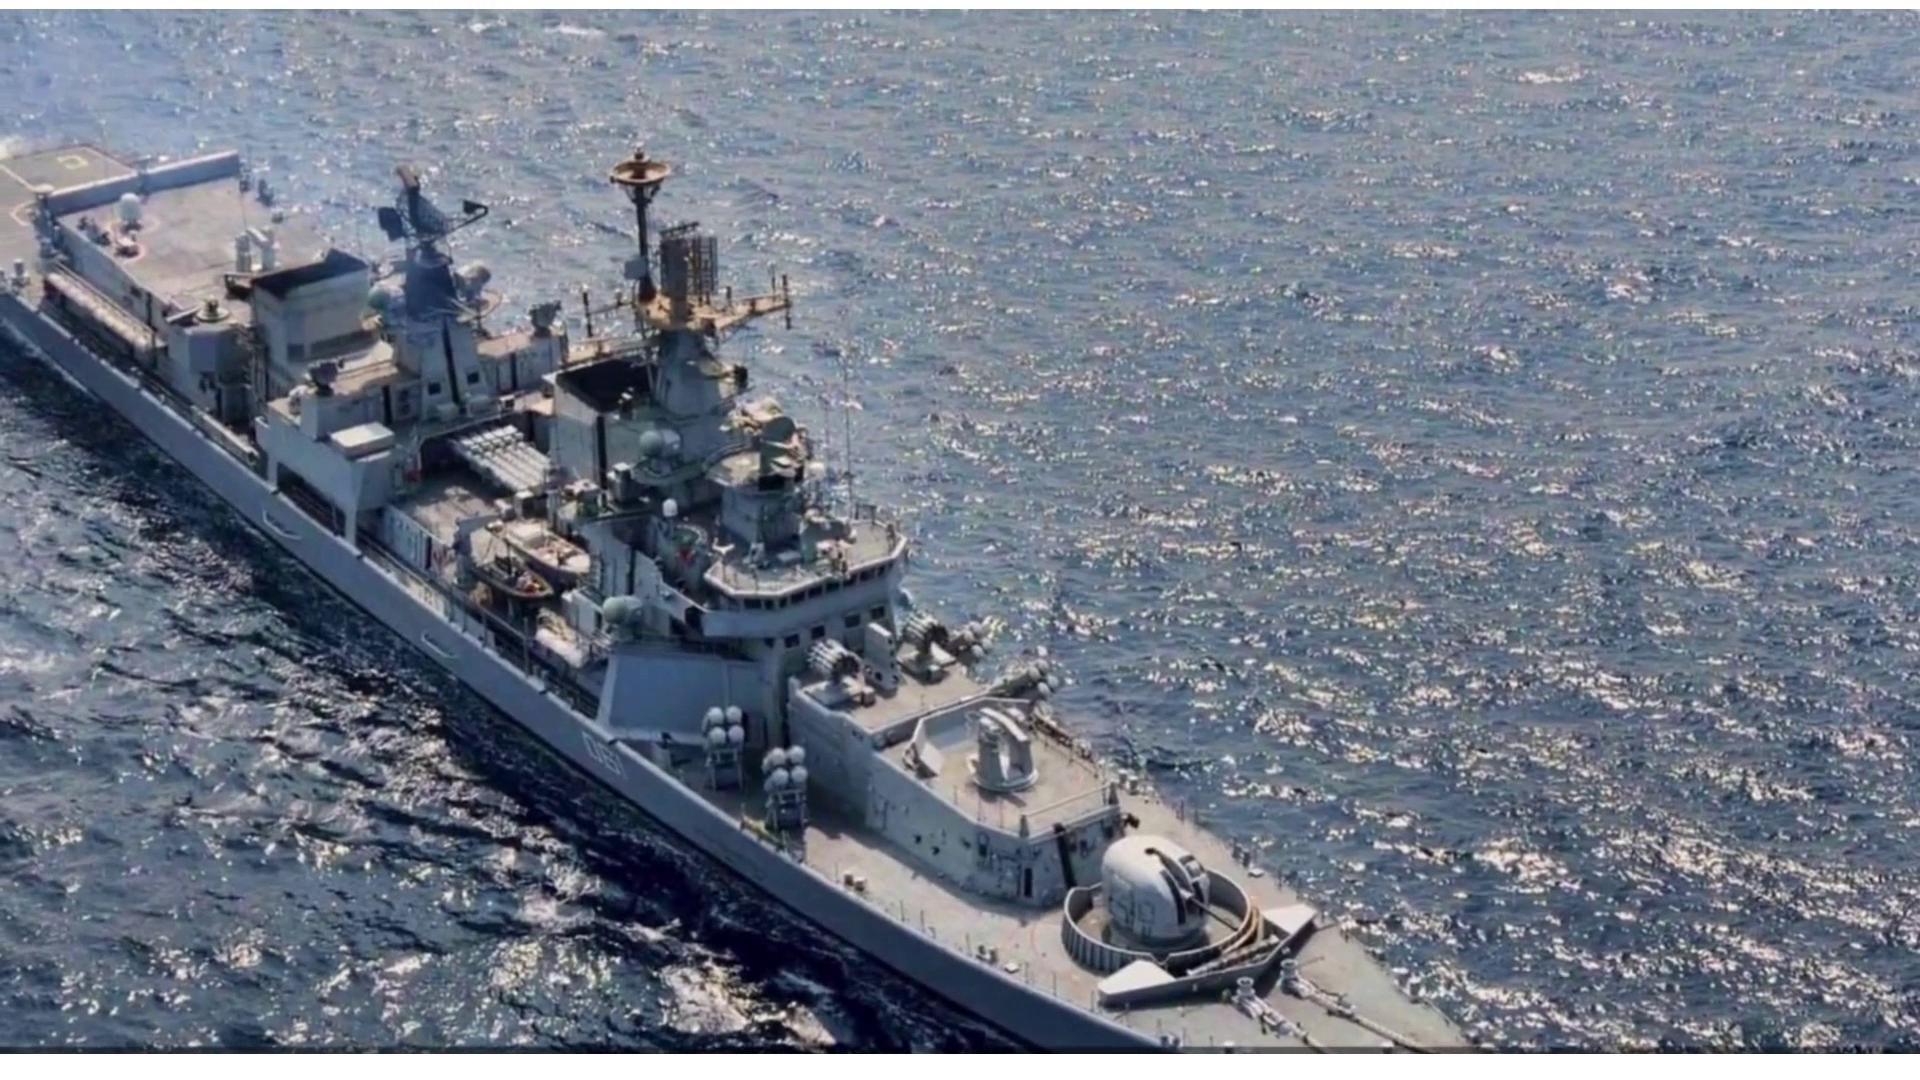OCR: (568, 725, 646, 806)
